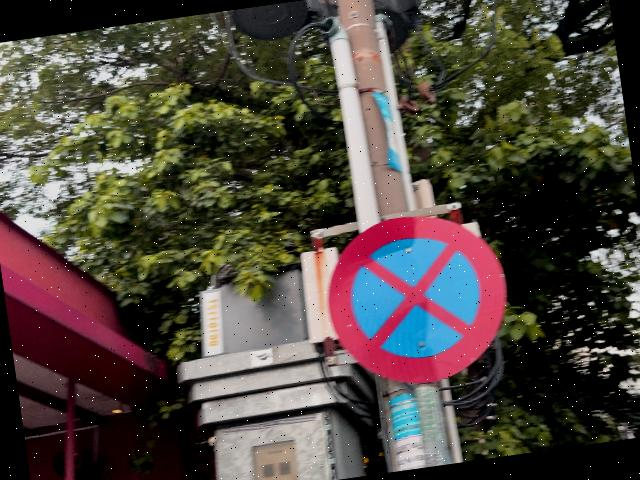cam-dung-va-do-xe: (317, 202, 518, 396)
